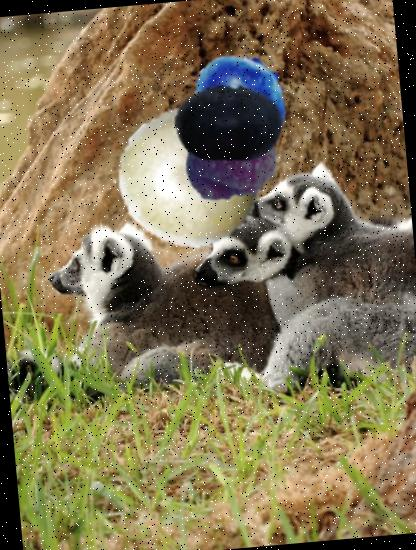Blueberry: (170, 64, 288, 182)
Huckleberry: (188, 44, 300, 154)
Maracuja: (113, 100, 268, 255)
Raspberry: (178, 102, 292, 214)
